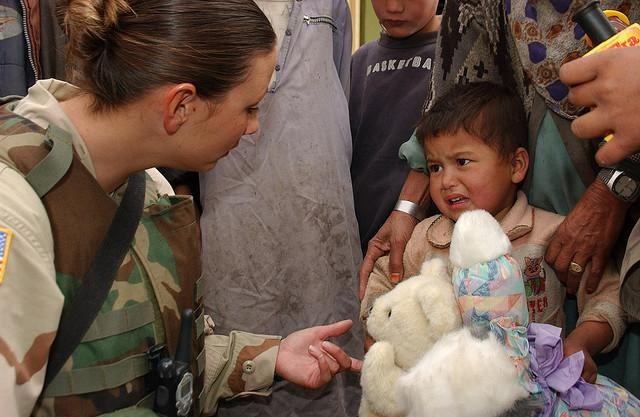person: (5, 2, 367, 397), (371, 81, 628, 381)
